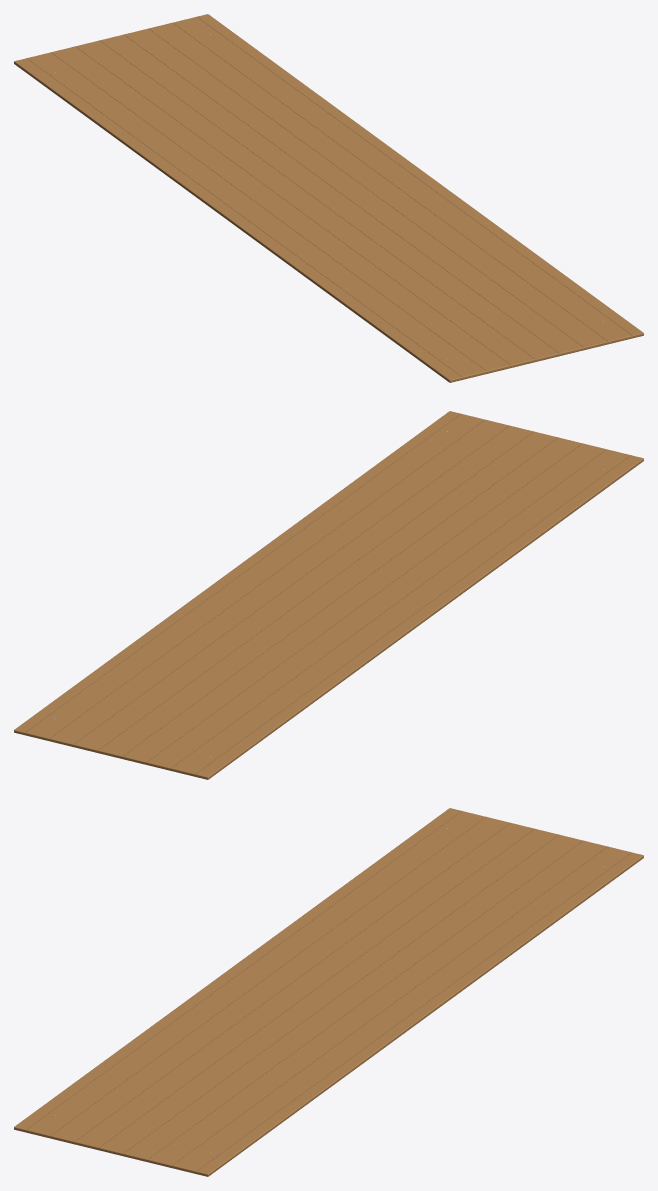
Rendered from dishwasher-upper-board.glb.
The picture shows the model from 3 angles, top to bottom: view 1: azimuth 30°, elevation 25°; view 2: azimuth 150°, elevation 25°; view 3: azimuth 330°, elevation 25°; orthographic projection.
Parts seen in each view (by area): view 1: wood, edge; view 2: wood, edge; view 3: wood, edge.
Part boxes in pixels (x1,y1,x2,y2): wood: [14, 14, 643, 382]; edge: [26, 17, 632, 376]; wood: [14, 411, 643, 779]; edge: [25, 414, 631, 773]; wood: [14, 808, 643, 1176]; edge: [27, 811, 631, 1170].
Size of the model in its own units: 10 by 0.161 by 38.83.
